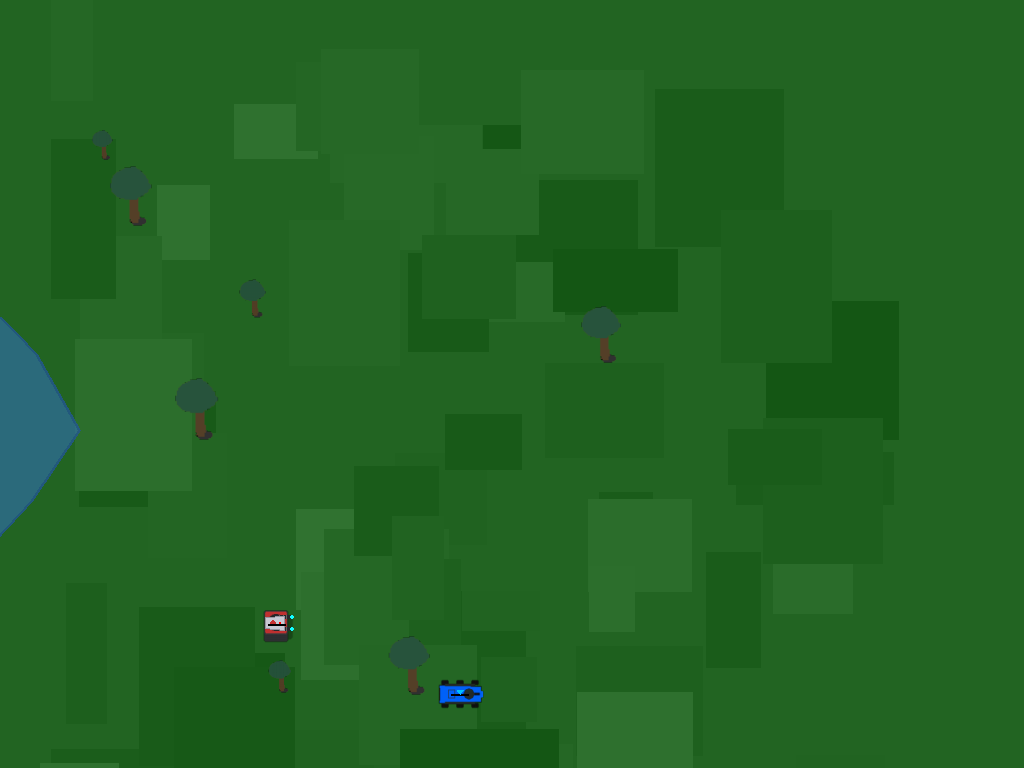APC_usa: (438, 672, 480, 714)
AntiAirTurret: (256, 602, 298, 644)
Lake: (0, 287, 79, 583)
